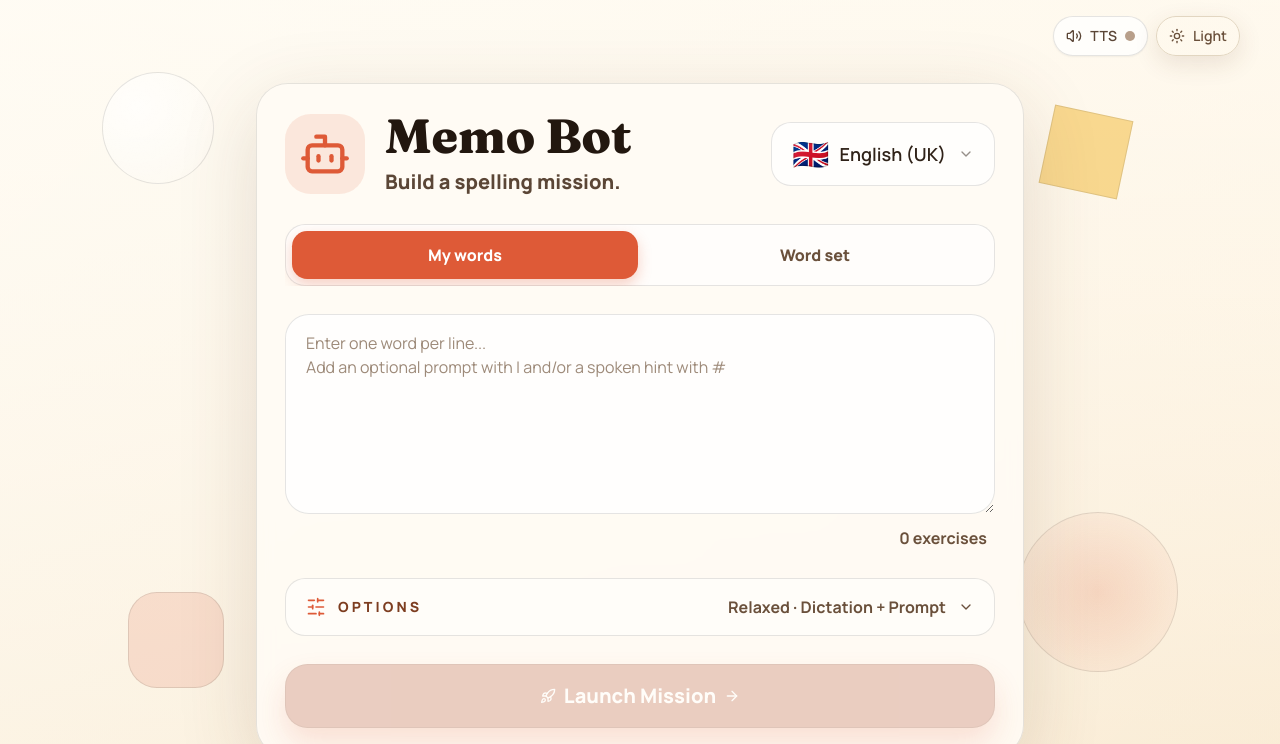
Scenario: InputScreen › lists the selected word-set words with their learning status
What coordinates should you click on to do the following:
click the radio button labelled "Word set"
I would click on:
 (815, 255)
Its box is [642,231,988,279].
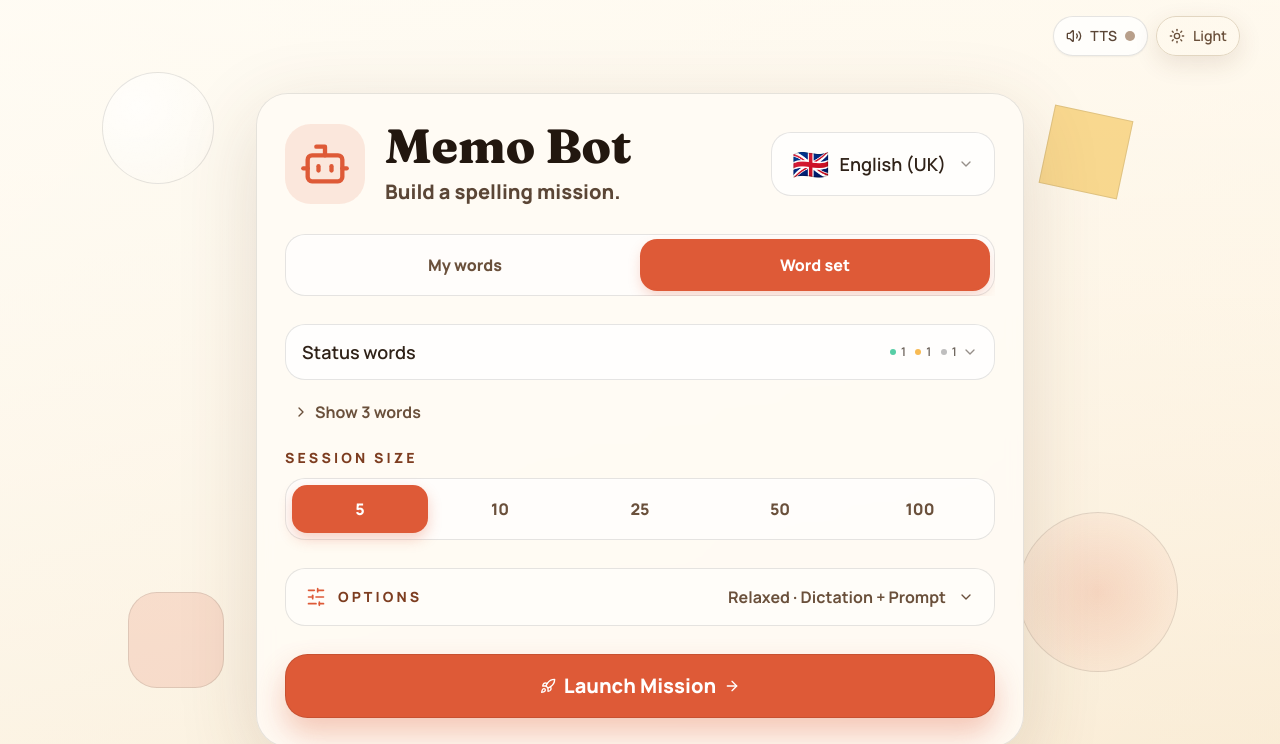
What coordinates should you click on to do the following:
click the button "Show 3 words"
I would click on:
 (357, 412)
Its box is [285,396,429,428].
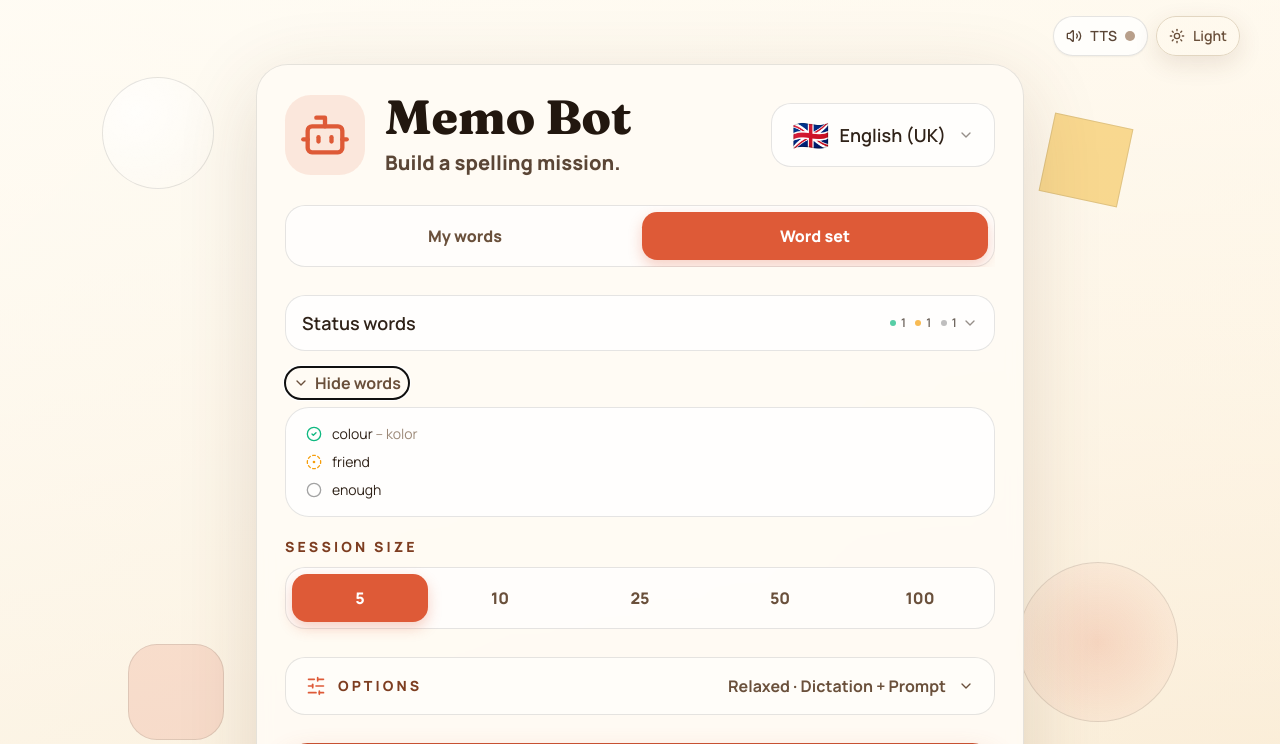
Expected: the number of list items is 3, [306,424,418,443]; [306,452,370,471]; [306,480,382,499]
Expected: the list items read "colour – kolor", "friend", "enough", in this order, [306,424,418,443]; [306,452,370,471]; [306,480,382,499]
Expected: the picture named "Known" is shown, [306,426,322,442]
